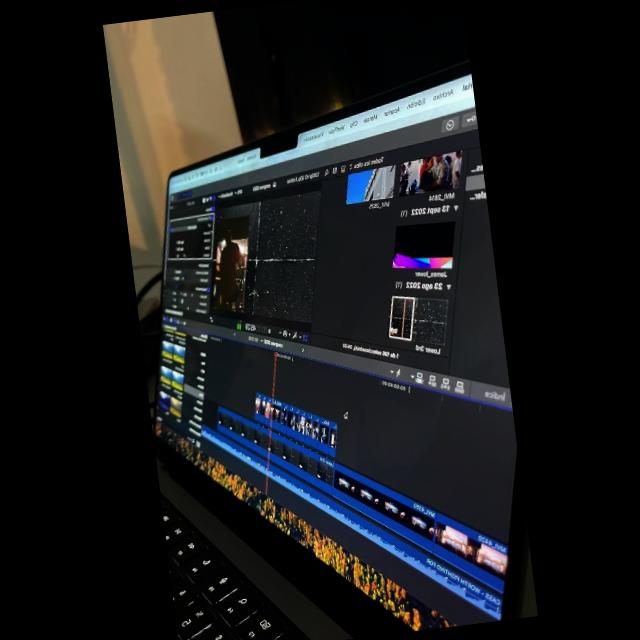laptop: (109, 37, 537, 640)
